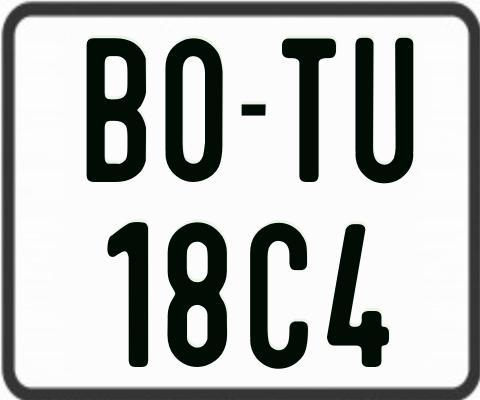0: (164, 38, 223, 186)
1: (107, 219, 149, 365)
4: (327, 223, 389, 368)
8: (167, 221, 232, 369)
B: (87, 38, 150, 184)
C: (250, 223, 311, 370)
T: (280, 36, 337, 184)
U: (353, 35, 416, 186)
